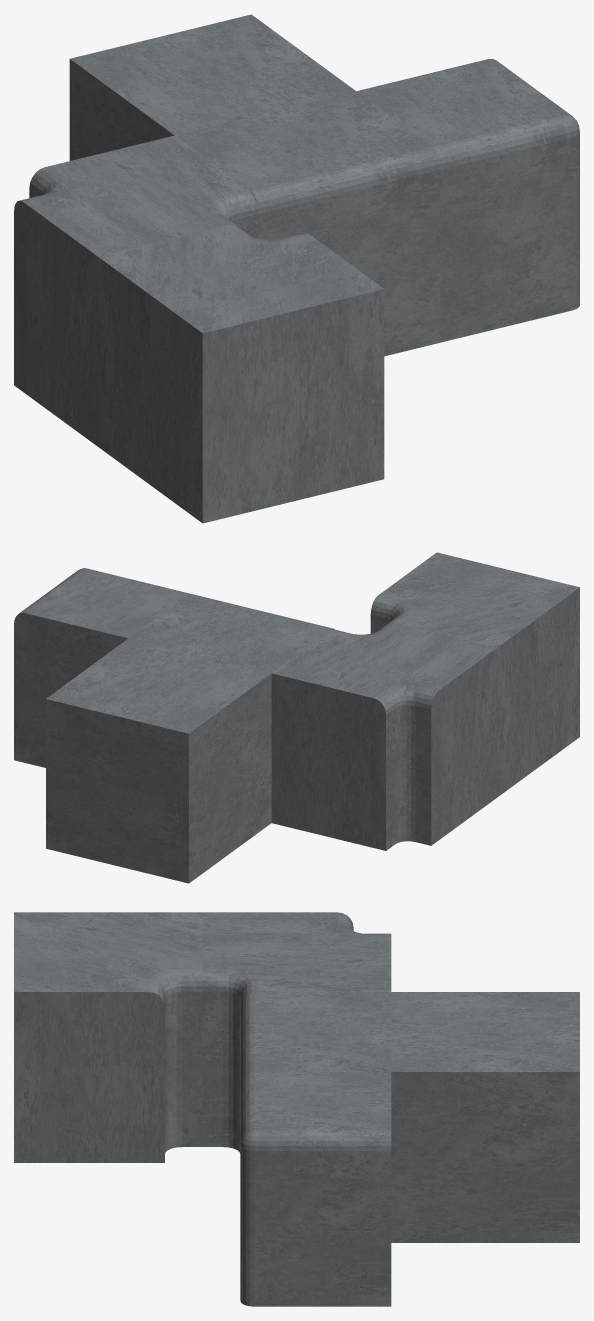
The picture shows the model from 3 angles, top to bottom: view 1: azimuth 30°, elevation 25°; view 2: azimuth 150°, elevation 25°; view 3: azimuth 270°, elevation 25°; orthographic projection. The views are drawn at different scales.
Parts seen in each view (by area): view 1: 立方体.004, 立方体.002, 立方体.001, 立方体.003, 立方体; view 2: 立方体, 立方体.003, 立方体.004, 立方体.002, 立方体.001; view 3: 立方体, 立方体.004, 立方体.002, 立方体.003, 立方体.001.
Boxes of the visible parts, x1,y1,x2,y2 form: 立方体.004: (98, 224, 384, 523); 立方体.002: (356, 58, 579, 342); 立方体.001: (175, 91, 440, 356); 立方体.003: (14, 135, 258, 446); 立方体: (69, 14, 355, 160); 立方体: (46, 638, 271, 883); 立方体.003: (271, 622, 497, 850); 立方体.004: (370, 552, 579, 797); 立方体.002: (14, 568, 189, 767); 立方体.001: (129, 593, 334, 673); 立方体: (391, 992, 579, 1242); 立方体.004: (14, 912, 202, 1162); 立方体.002: (240, 1072, 391, 1306); 立方体.003: (202, 912, 391, 1153); 立方体.001: (240, 992, 391, 1086).
Bounding box in the file's own units: 140 × 50 × 150.
